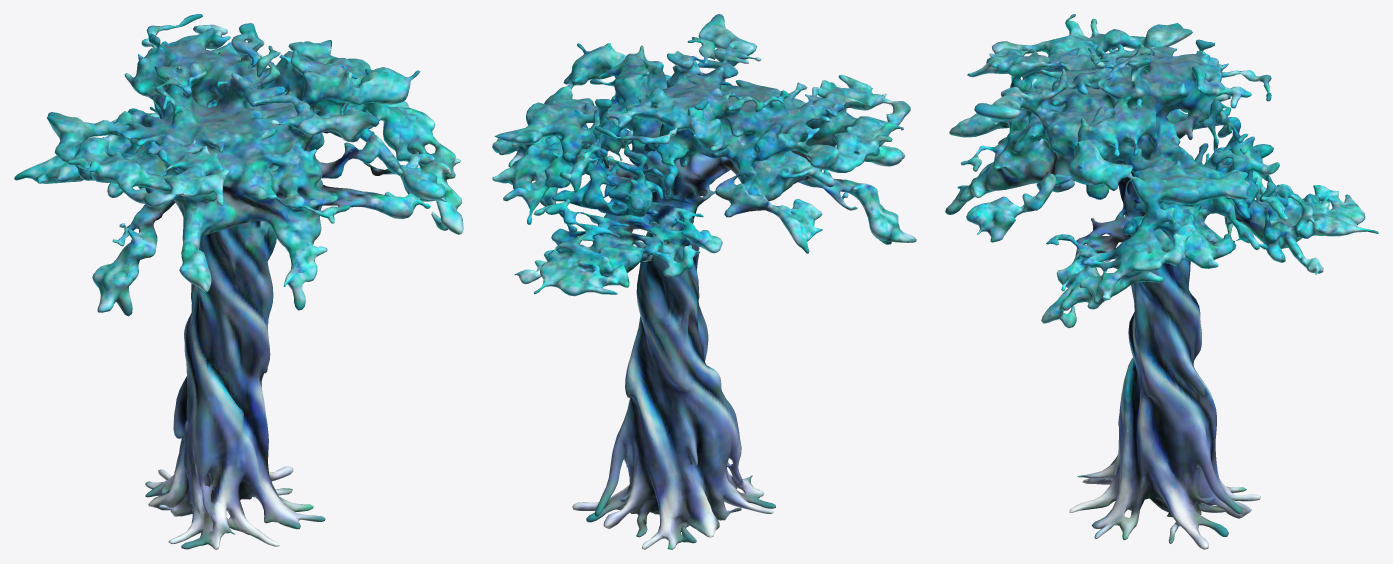
Rendered from tree.glb.
The picture shows the model from 3 angles, left to right: view 1: azimuth 30°, elevation 25°; view 2: azimuth 150°, elevation 25°; view 3: azimuth 270°, elevation 25°; orthographic projection. The views are drawn at different scales.
Visible parts, largest first — view 1: high_poly; view 2: high_poly; view 3: high_poly.
Part boxes in pixels (left/top/right/bottom): high_poly: left=14, top=14, right=463, bottom=549; high_poly: left=492, top=14, right=916, bottom=549; high_poly: left=945, top=14, right=1378, bottom=549.
Bounding box in the file's own units: 0.8641 × 1 × 0.8538.
Materials: 1 (1 with a texture image).
